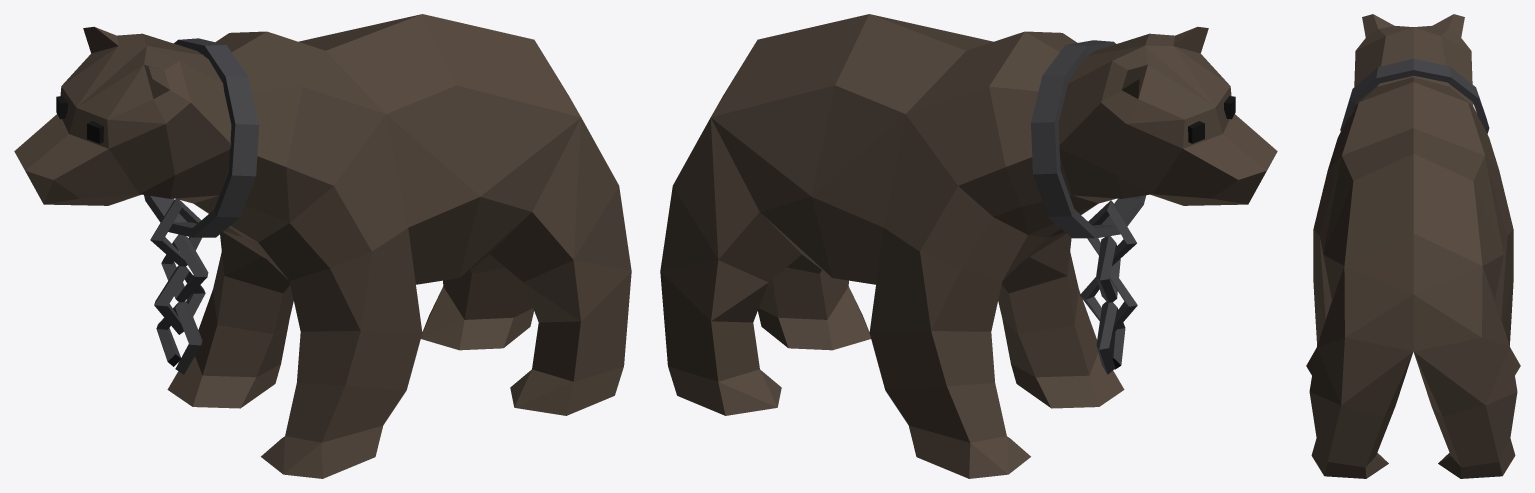
The model's file is bear.glb.
3 renders of one model, left to right at view 1: azimuth 30°, elevation 25°; view 2: azimuth 150°, elevation 25°; view 3: azimuth 270°, elevation 25°, orthographic. The views are drawn at different scales.
Visible parts, largest first — view 1: Plane; view 2: Plane; view 3: Plane.
Part boxes in pixels (<box>): Plane: <box>14,14,631,478</box>; Plane: <box>660,14,1277,478</box>; Plane: <box>1306,14,1520,478</box>.
Size of the model in its own units: 3.07 by 2.16 by 1.38.
Materials: 1 (1 with a texture image).
